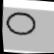no answer: (2, 8, 40, 39)
